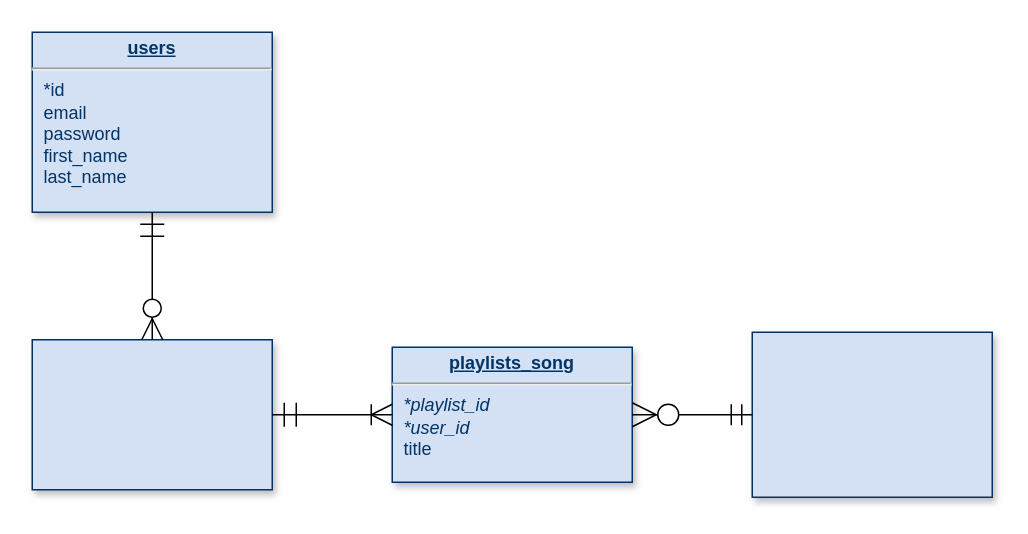
Some shapes in this 1028 by 534 pixel diagram are drawn without their labels. The shapes that lost their labels are listed below. From the top down, each one's centre as x and y in pixels, then its label:
At pixel 153 416: "playlist *id title userid extid".
At pixel 873 416: "song *id title originator duration ytid".
